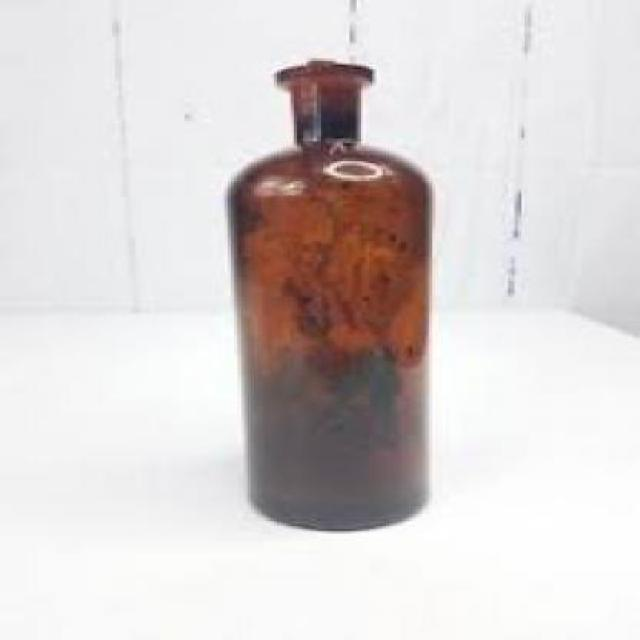kaca: (225, 60, 429, 526)
